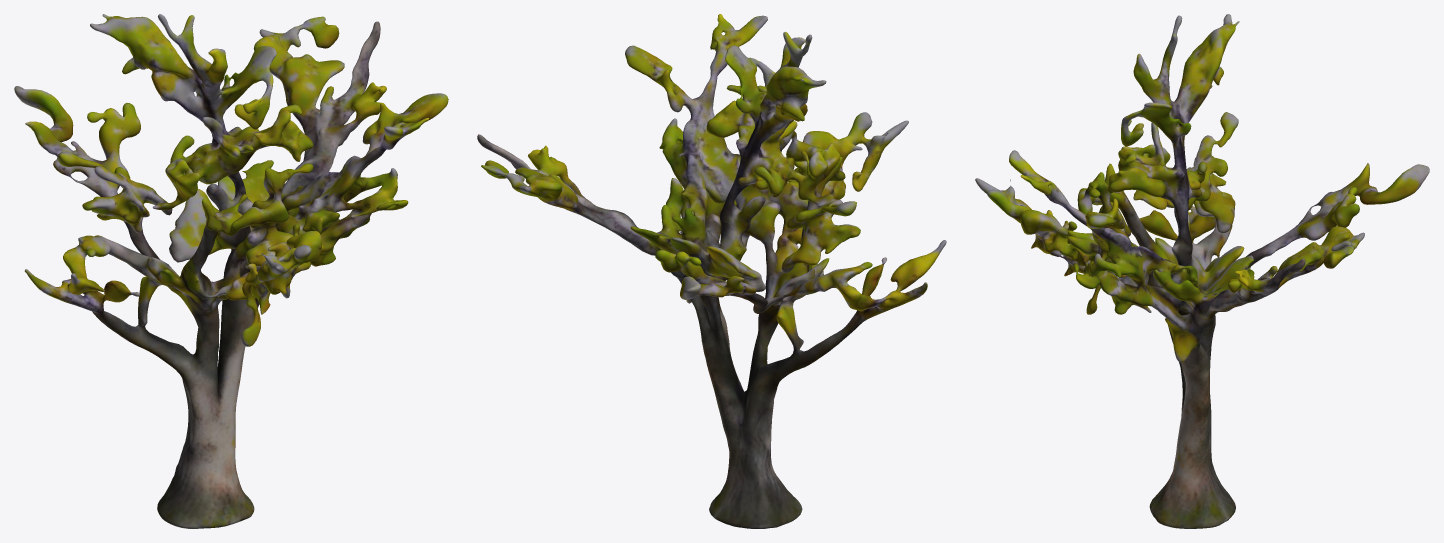
File: 634d64138036_dry_tree__with_few_.fbx
The picture shows the model from 3 angles, left to right: view 1: azimuth 30°, elevation 25°; view 2: azimuth 150°, elevation 25°; view 3: azimuth 270°, elevation 25°; orthographic projection. The views are drawn at different scales.
Visible parts, largest first — view 1: high_poly; view 2: high_poly; view 3: high_poly.
Boxes of the visible parts, x1,y1,x2,y2 form: high_poly: [14, 14, 448, 528]; high_poly: [477, 14, 946, 528]; high_poly: [975, 14, 1429, 528].
Size of the model in its own units: 84.67 by 100 by 87.17.
